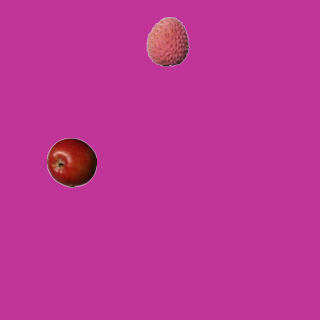Apple Braeburn: (46, 137, 96, 187)
Lychee: (142, 16, 192, 66)
